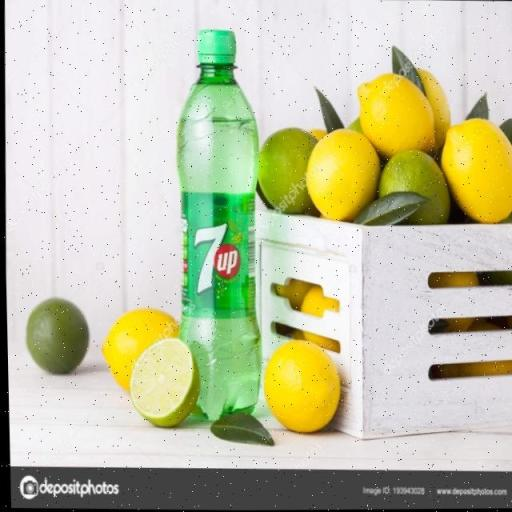plastic: (174, 29, 260, 425)
